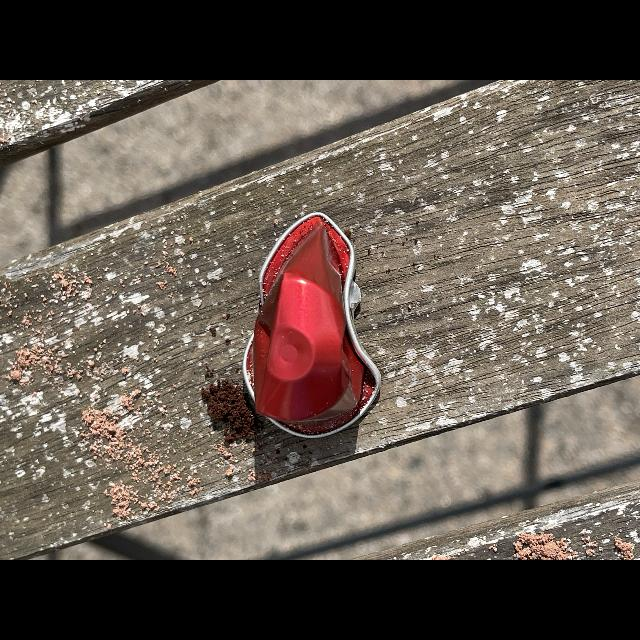damaged_capsule: (228, 204, 384, 452)
